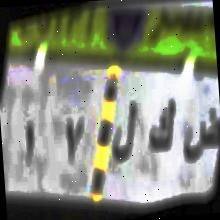1: (20, 115, 42, 170)
4: (182, 102, 220, 165)
7: (58, 112, 92, 168)
kaaf: (146, 93, 181, 161)
laam: (108, 99, 142, 168)
